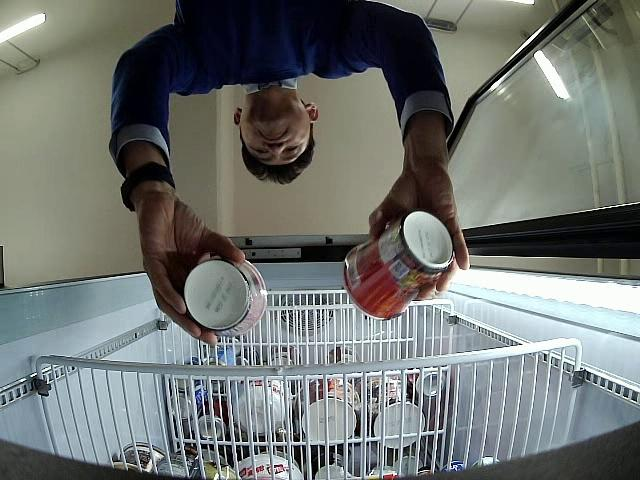00_hand: (133, 188, 246, 347), (372, 155, 469, 300)
02_shinRamen_S: (344, 211, 453, 320), (185, 255, 267, 338)
